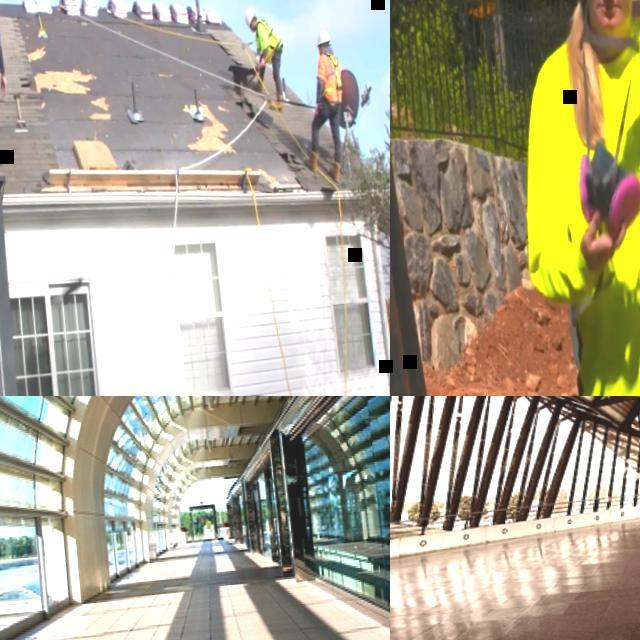helmet: (314, 32, 329, 48), (243, 10, 256, 28)
vest: (253, 18, 284, 62), (318, 54, 343, 104)
